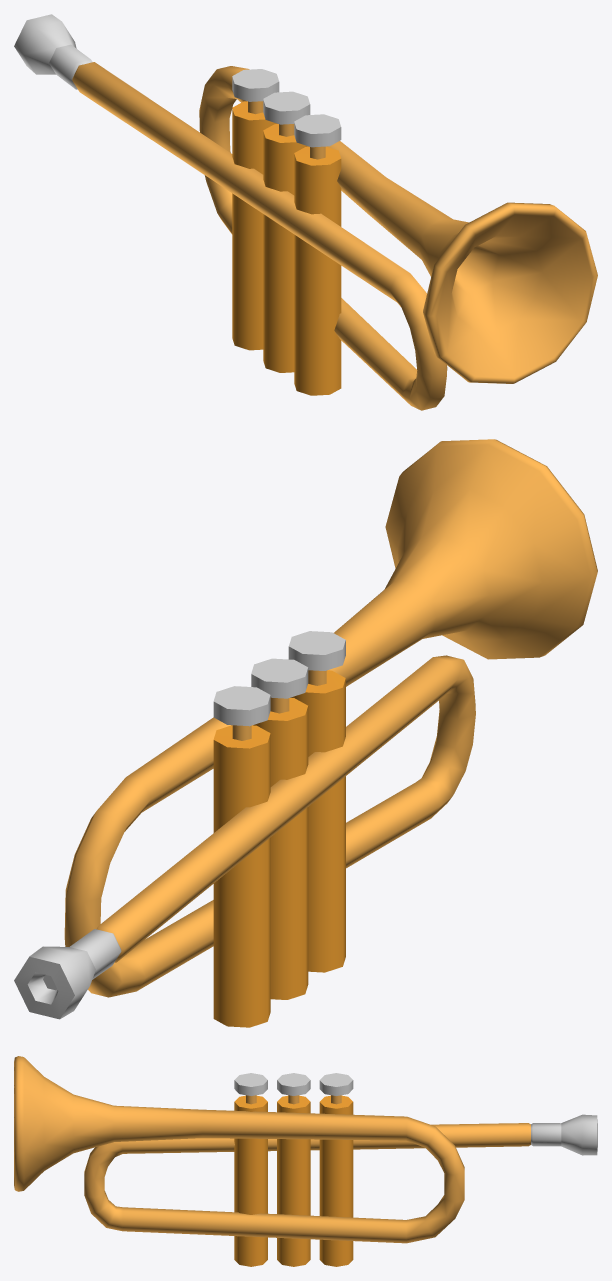
File: mergedmesh2.obj
The picture shows the model from 3 angles, top to bottom: view 1: azimuth 30°, elevation 25°; view 2: azimuth 150°, elevation 25°; view 3: azimuth 270°, elevation 25°; orthographic projection. The views are drawn at different scales.
Visible parts, largest first — view 1: mergedmesh2_M_Material; view 2: mergedmesh2_M_Material; view 3: mergedmesh2_M_Material.
Boxes of the visible parts, <box> form: mergedmesh2_M_Material: <box>14,14,597,410</box>; mergedmesh2_M_Material: <box>14,439,597,1027</box>; mergedmesh2_M_Material: <box>14,1056,597,1266</box>.
Size of the model in its own units: 0.118 by 0.1967 by 0.5054.
1 material, 1 textured.
